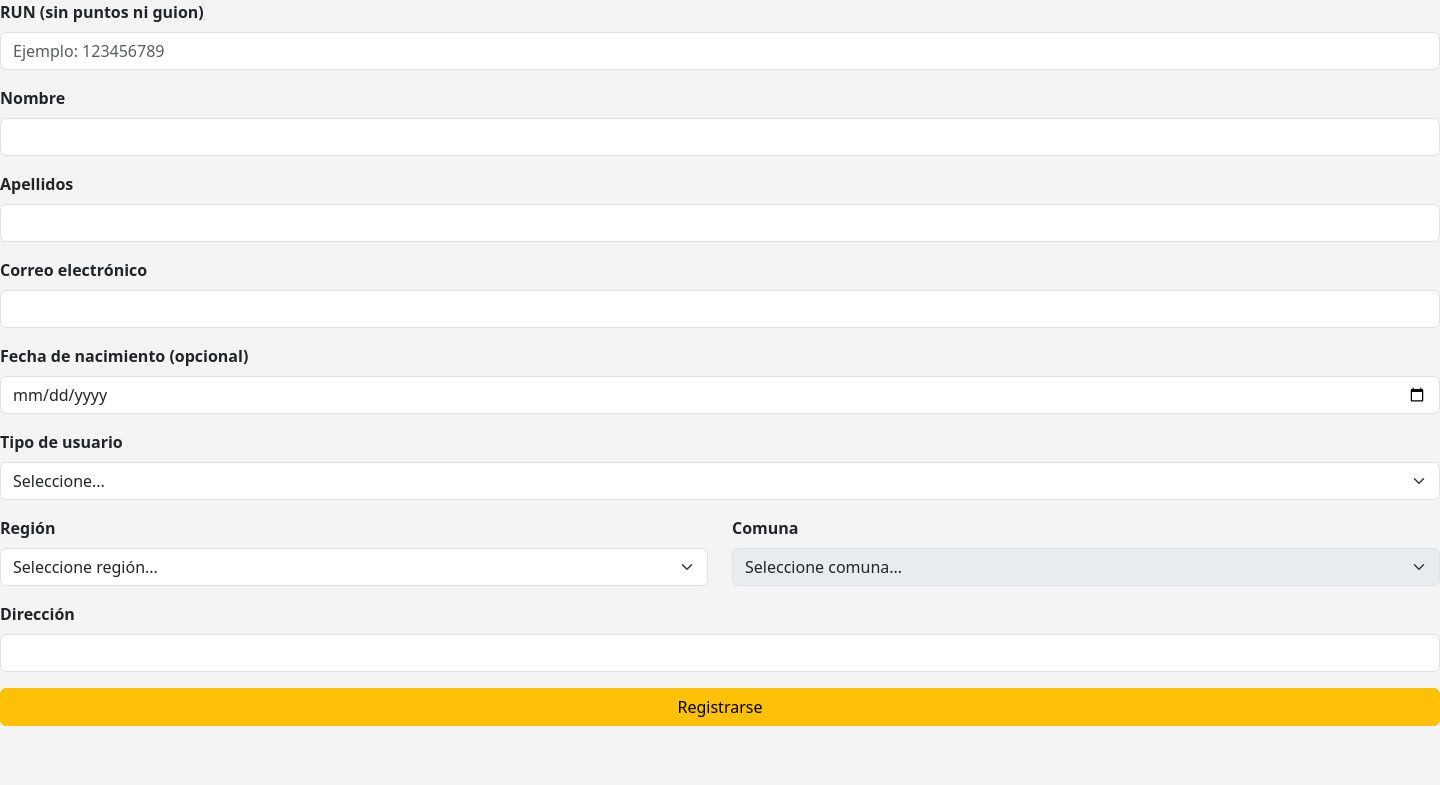
FormularioRegistro › errores al enviar vacío
This screenshot has width=1440, height=785.
Click the button "Registrarse" at (720, 707), box x1=0 y1=688 x2=1439 y2=726
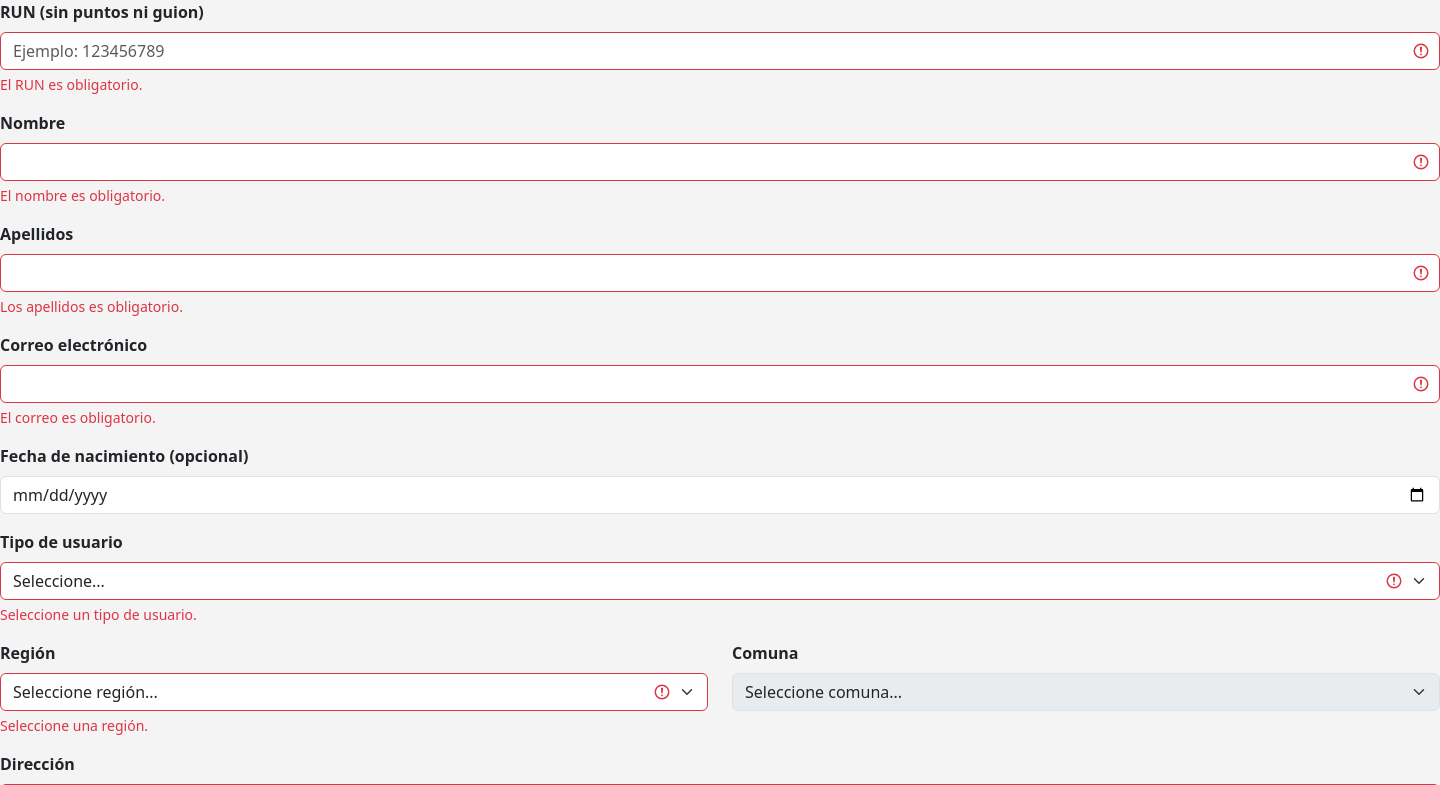
expect the text "El RUN es obligatorio." is shown: met, box x1=0 y1=75 x2=142 y2=94
expect the text "Seleccione un tipo de usuario." is shown: met, box x1=0 y1=605 x2=197 y2=624
expect the text "Seleccione una región." is shown: met, box x1=0 y1=716 x2=148 y2=735
